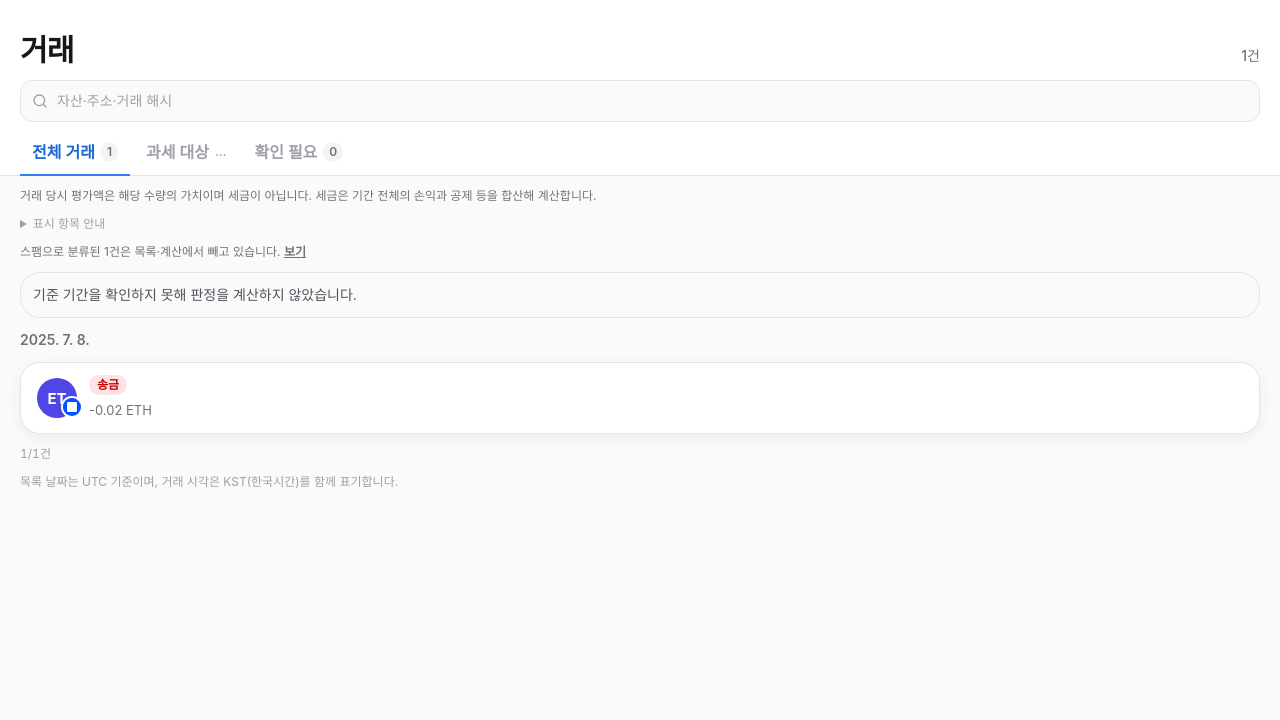
Test: 스팸 보기 › 스팸 행은 보기 전용이라 열리지 않는다
Click the button "보기": (295, 252) [284,244,306,260]
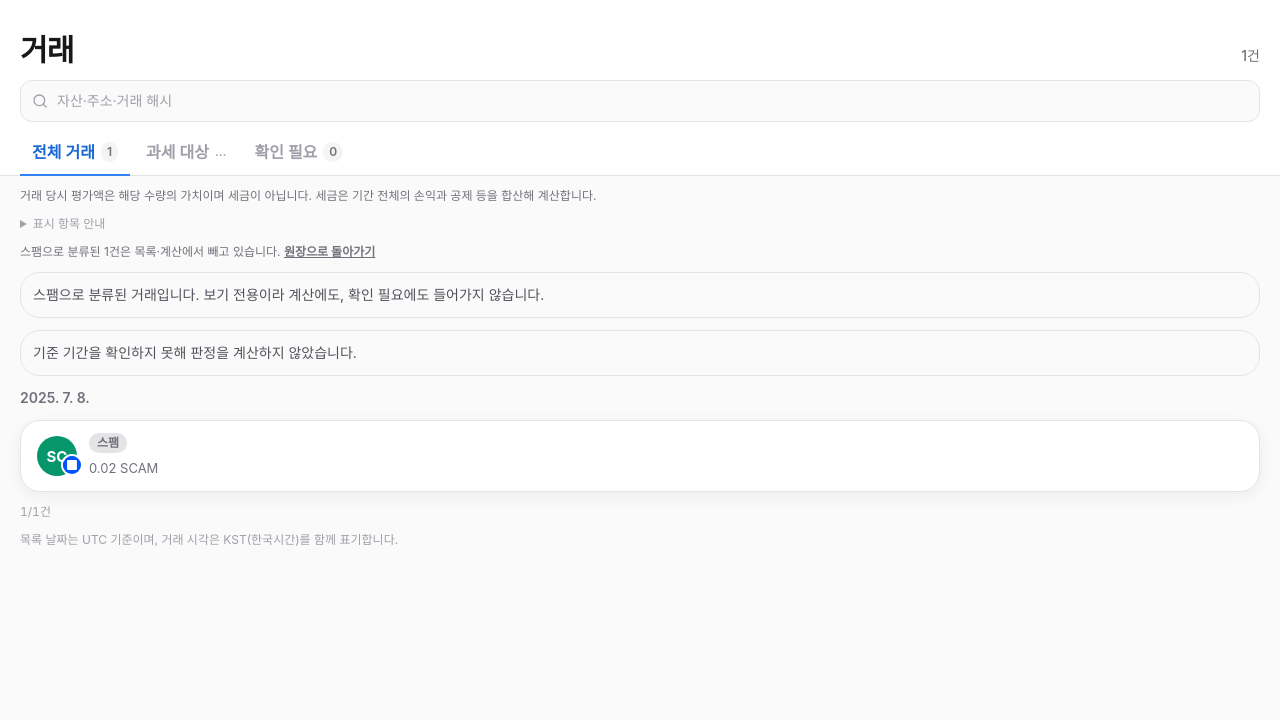
Expected: the element showing "SC 스팸 0.02 SCAM" is shown, [20,420,1260,492]
